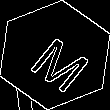M_NE: (19, 21, 91, 89)
